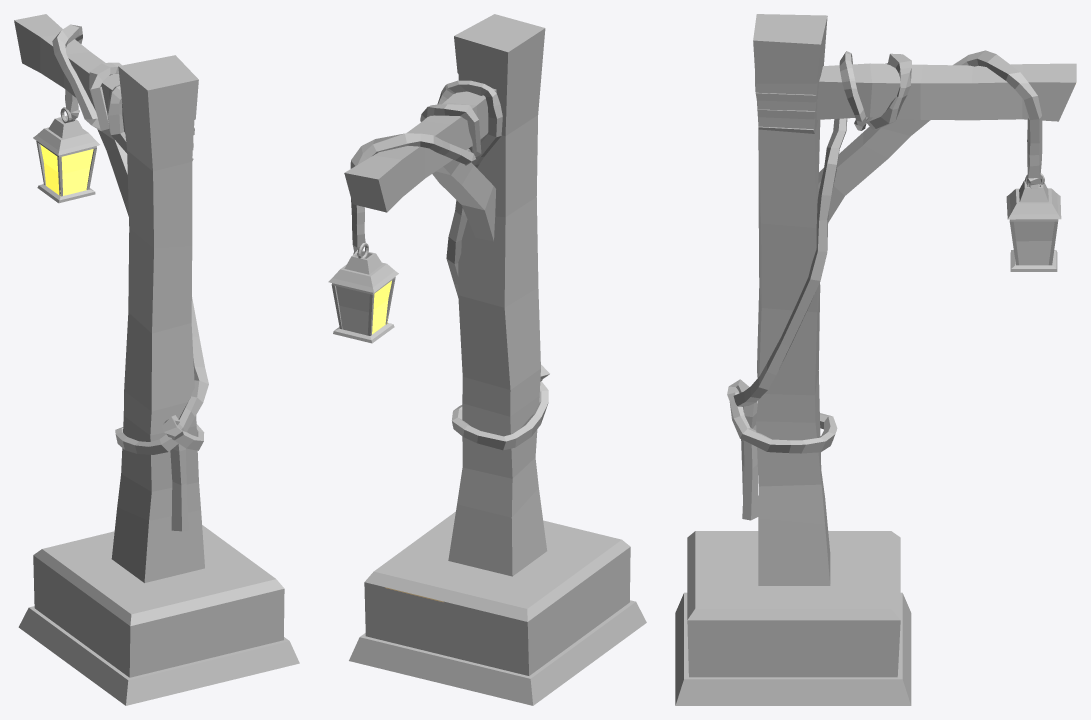
File: LP_final_lano.fbx
3 renders of one model, left to right at view 1: azimuth 30°, elevation 25°; view 2: azimuth 150°, elevation 25°; view 3: azimuth 270°, elevation 25°, orthographic. The views are drawn at different scales.
Visible parts, largest first — view 1: Plane.001; view 2: Plane.001; view 3: Plane.001.
Part boxes in pixels (x1,y1,x2,y2): Plane.001: (14, 14, 299, 705); Plane.001: (328, 14, 646, 705); Plane.001: (675, 14, 1076, 705).
Size of the model in its own units: 147 by 462 by 266.
